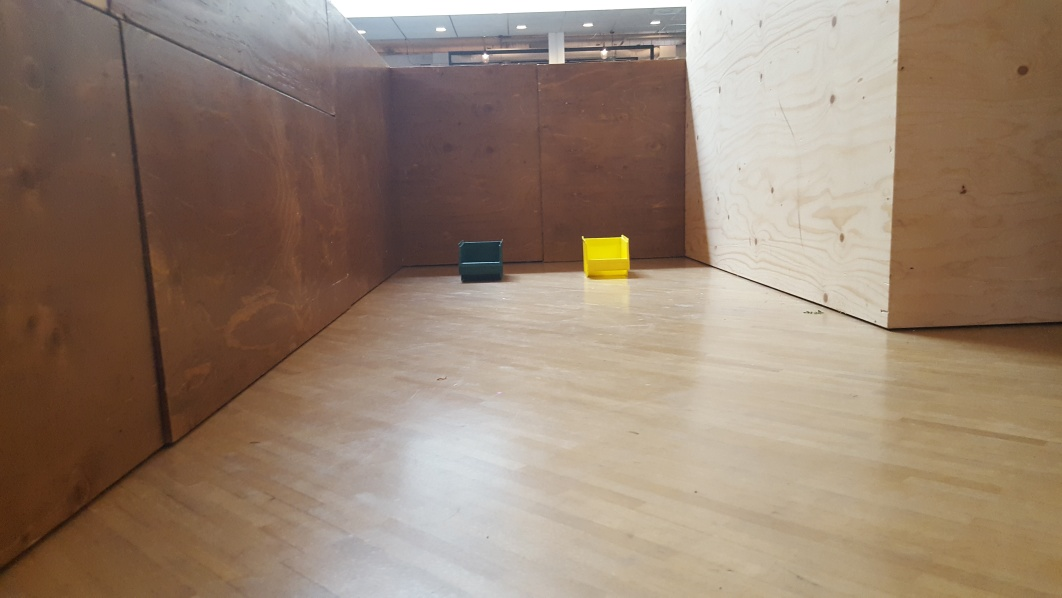tray: (577, 232, 632, 280), (458, 239, 508, 282)
